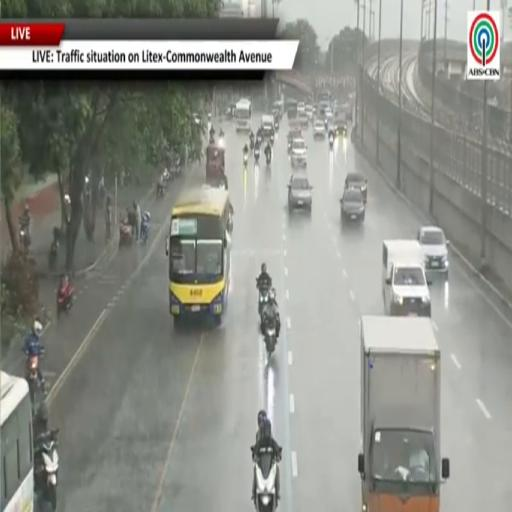bus: (167, 185, 231, 326), (0, 372, 34, 511), (236, 99, 251, 132)
car: (418, 226, 449, 278), (288, 172, 312, 212), (340, 188, 365, 225), (345, 172, 367, 202), (291, 138, 307, 167), (287, 125, 302, 153), (313, 120, 326, 138), (334, 119, 347, 137), (298, 111, 308, 129), (192, 112, 202, 125), (305, 105, 313, 121), (325, 107, 333, 121), (297, 103, 305, 113)
motorcycle: (252, 447, 281, 511), (39, 429, 59, 511), (26, 348, 43, 403), (57, 282, 74, 317), (264, 317, 276, 357), (119, 221, 133, 248), (49, 238, 59, 271), (259, 285, 269, 318), (141, 212, 150, 245), (19, 227, 30, 252), (156, 183, 165, 199), (227, 213, 233, 234), (328, 134, 334, 150), (254, 147, 260, 162), (351, 125, 356, 142), (243, 153, 248, 167), (266, 152, 271, 166), (256, 134, 262, 145), (250, 137, 254, 150), (274, 122, 279, 132), (270, 134, 274, 145), (288, 140, 291, 153)
truck: (358, 316, 449, 511), (206, 143, 227, 187)
